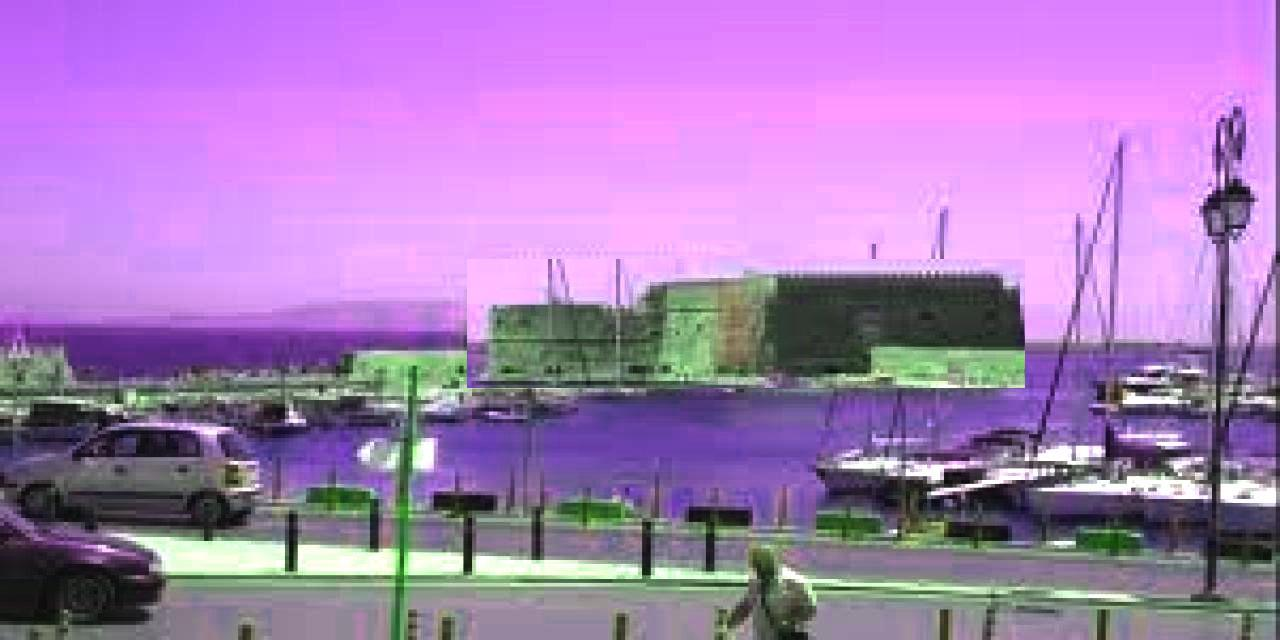Kules: (468, 260, 1026, 389)
